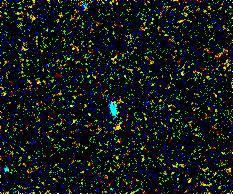star: (107, 114, 137, 144)
